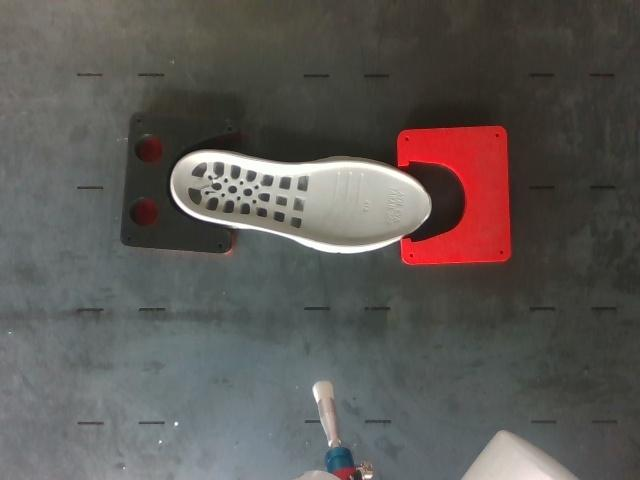shoes: (174, 154, 433, 245)
